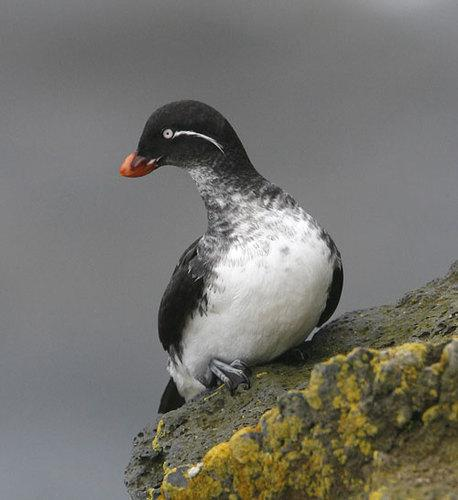007.Parakeet_Auklet: (117, 97, 346, 415)
